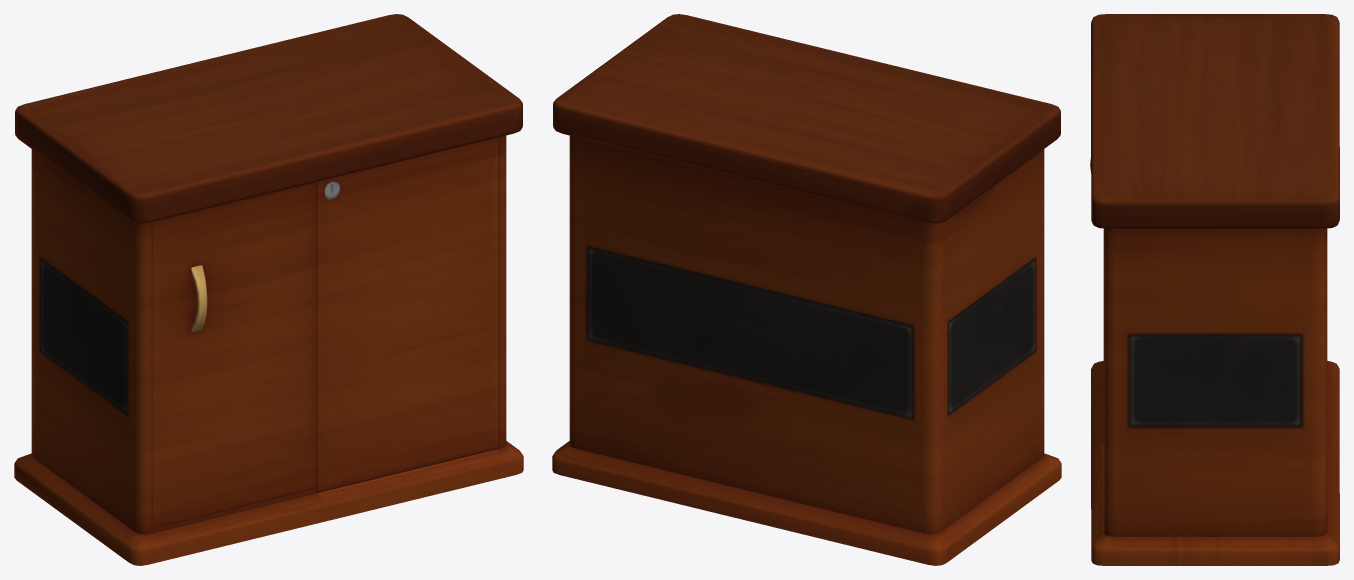
The model's file is OfficeDesk02_3.FBX.
3 renders of one model, left to right at view 1: azimuth 30°, elevation 25°; view 2: azimuth 150°, elevation 25°; view 3: azimuth 270°, elevation 25°, orthographic.
Parts seen in each view (by area): view 1: OfficeDesk02_3; view 2: OfficeDesk02_3; view 3: OfficeDesk02_3.
Boxes of the visible parts, x1,y1,x2,y2 form: OfficeDesk02_3: (14, 14, 523, 565); OfficeDesk02_3: (552, 14, 1061, 565); OfficeDesk02_3: (1090, 14, 1339, 565).
Size of what is drawn, in the model's own units: 1 by 0.9 by 0.559.
